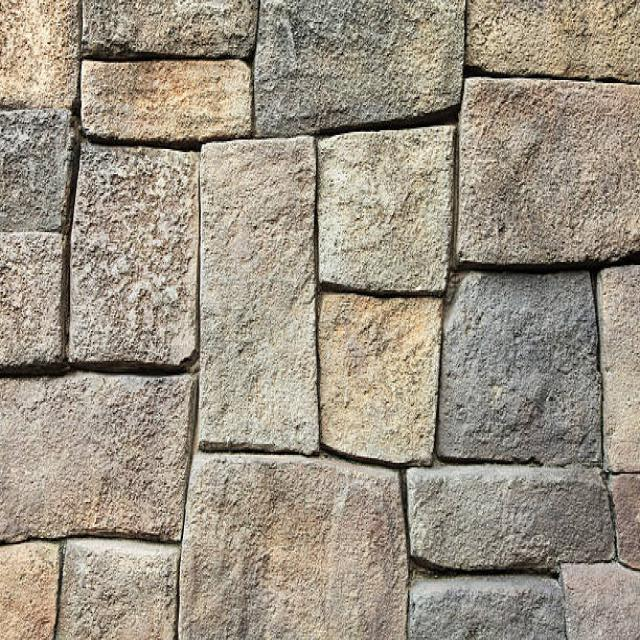Sedimentary: (1, 1, 638, 637)
